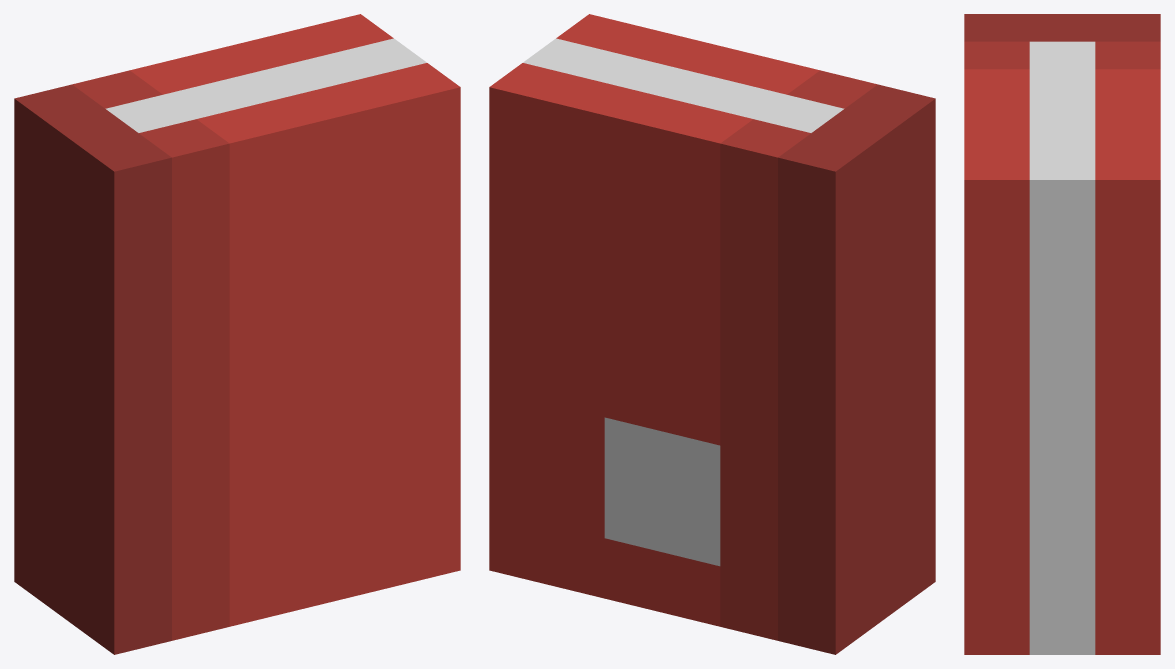
File: book1_00.fbx
3 renders of one model, left to right at view 1: azimuth 30°, elevation 25°; view 2: azimuth 150°, elevation 25°; view 3: azimuth 270°, elevation 25°, orthographic.
Parts seen in each view (by area): view 1: book1_00; view 2: book1_00; view 3: book1_00.
Boxes of the visible parts, <box> form: book1_00: <box>14,14,460,654</box>; book1_00: <box>489,14,935,654</box>; book1_00: <box>964,14,1160,654</box>.
Size of the model in its own units: 30 by 15 by 40.
Materials: 1 (1 with a texture image).
